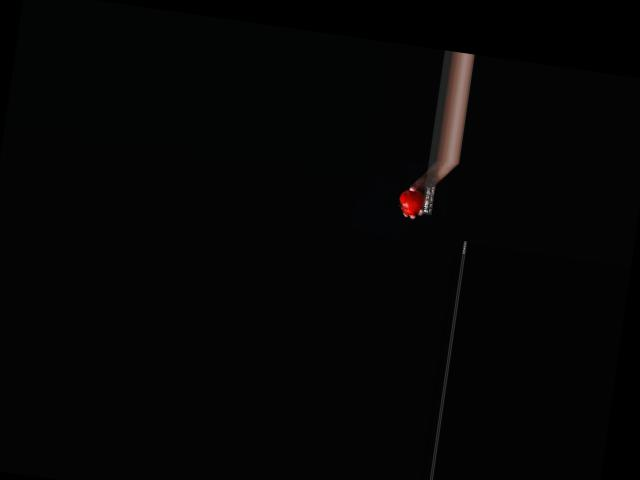tomato: (397, 188, 425, 217)
